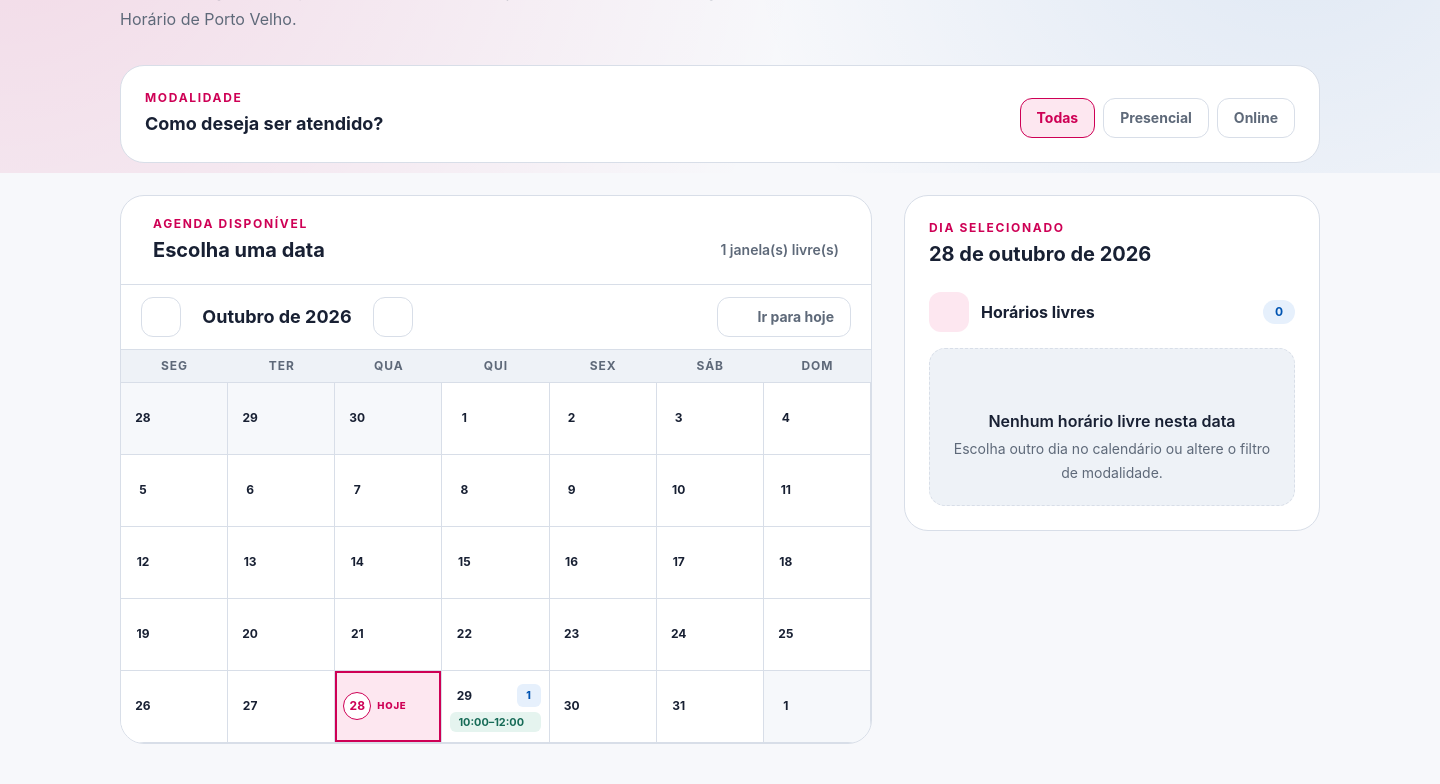
it: NewAppointmentView › preenche os dados dentro da janela e abre a revisão sem simular uma reserva
(page scrolled)
Click the button "29 1 10:00–12:00" at (496, 707), box [442,671,550,743]
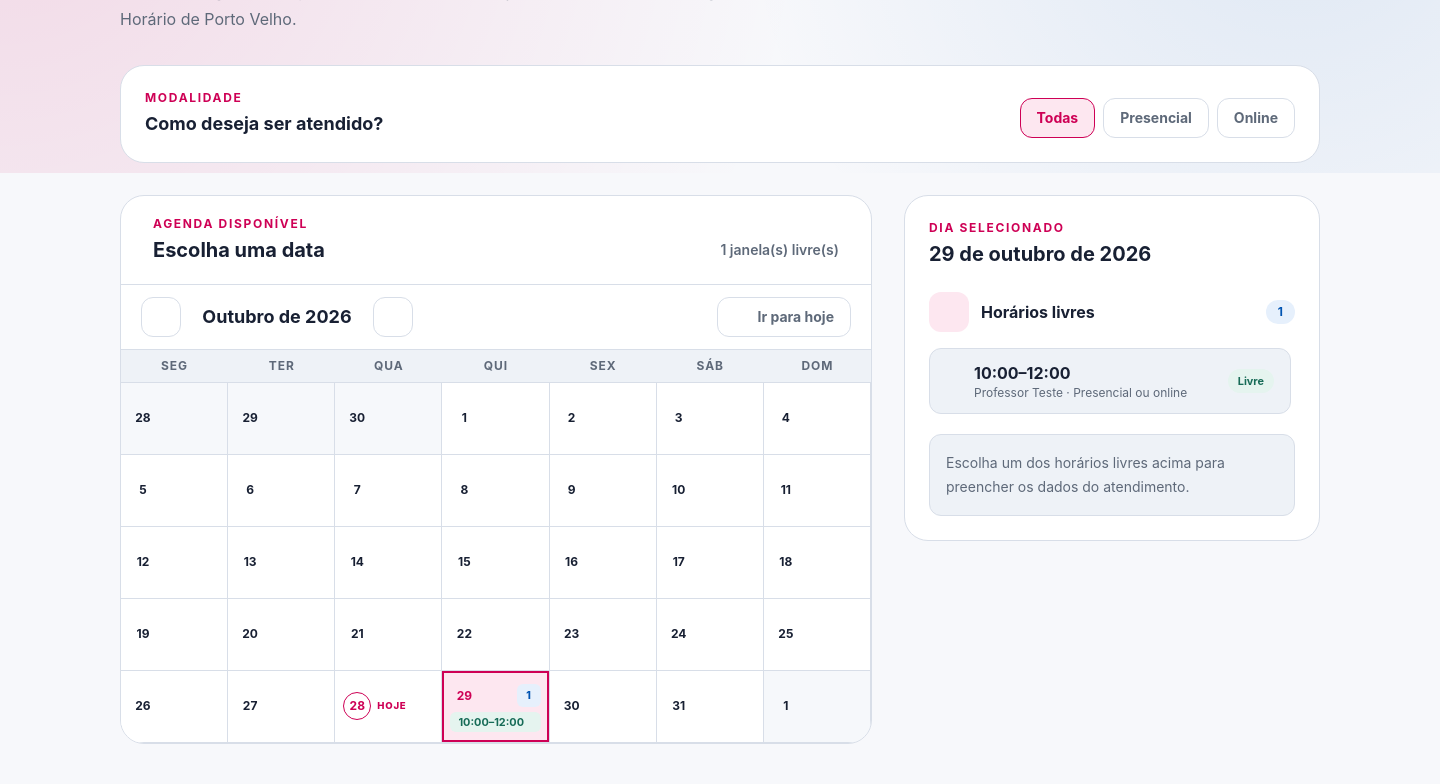
Click the button with test id "day-interval-" at (1022, 373), box [929,348,1291,414]
(page scrolled)
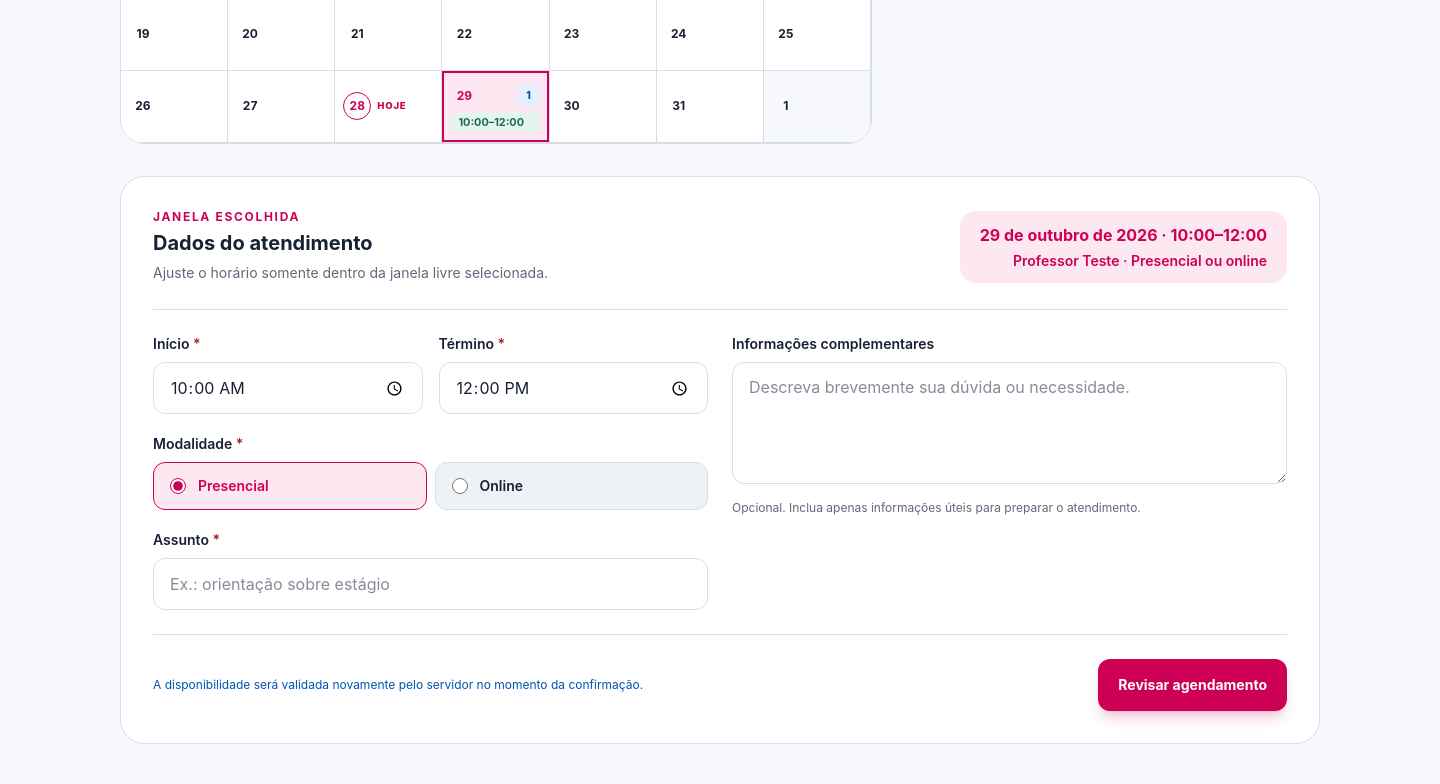
Result: the form with test id "appointment-form" shows "Dados do atendimento" at [153,231,373,255]
Type "Orientação sobre estágio" into the field named "subject" at (430, 584), box [153,558,708,610]
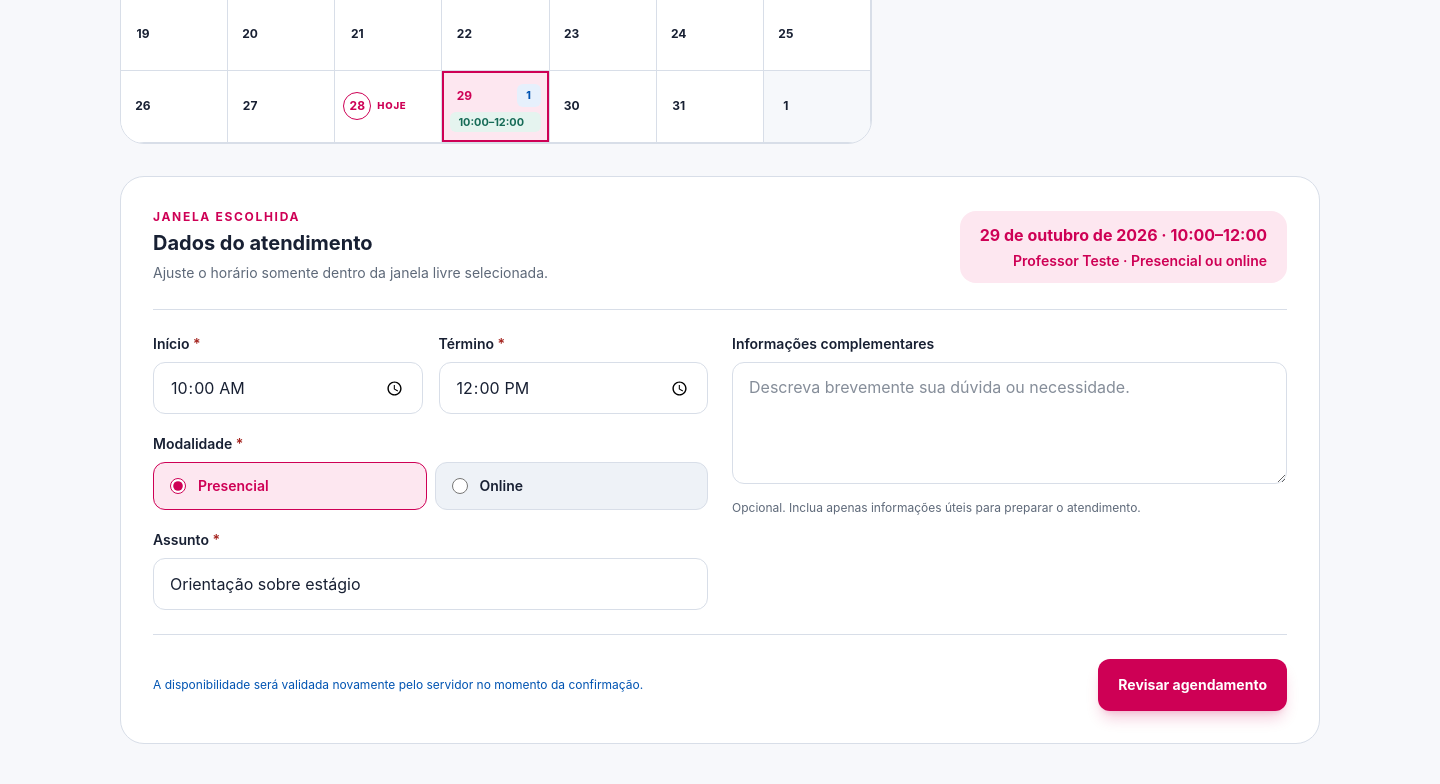
Type "Dúvidas sobre a documentação." into the text box named "details" at (1010, 423), box [732,362,1287,484]
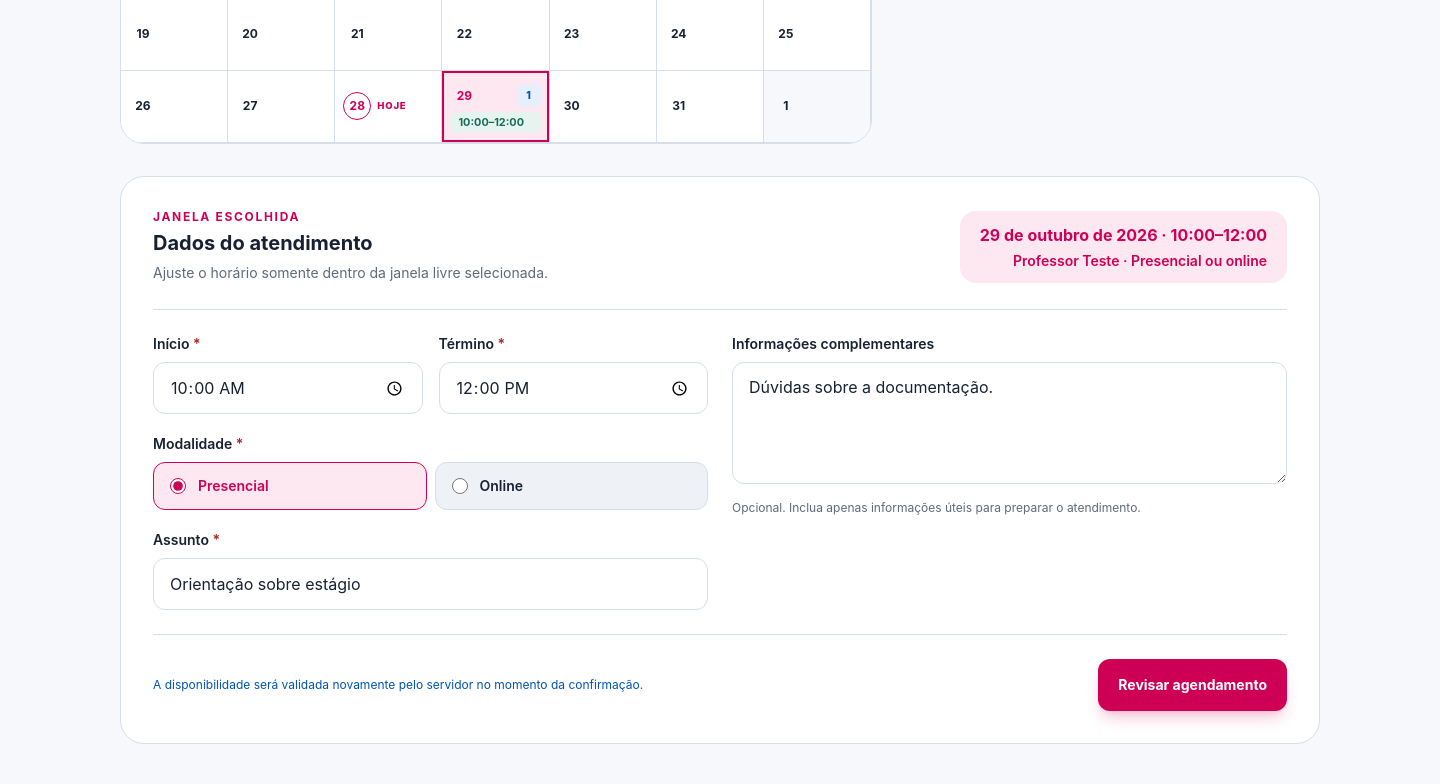
Submit the form with test id "appointment-form", box [153,209,1287,711]
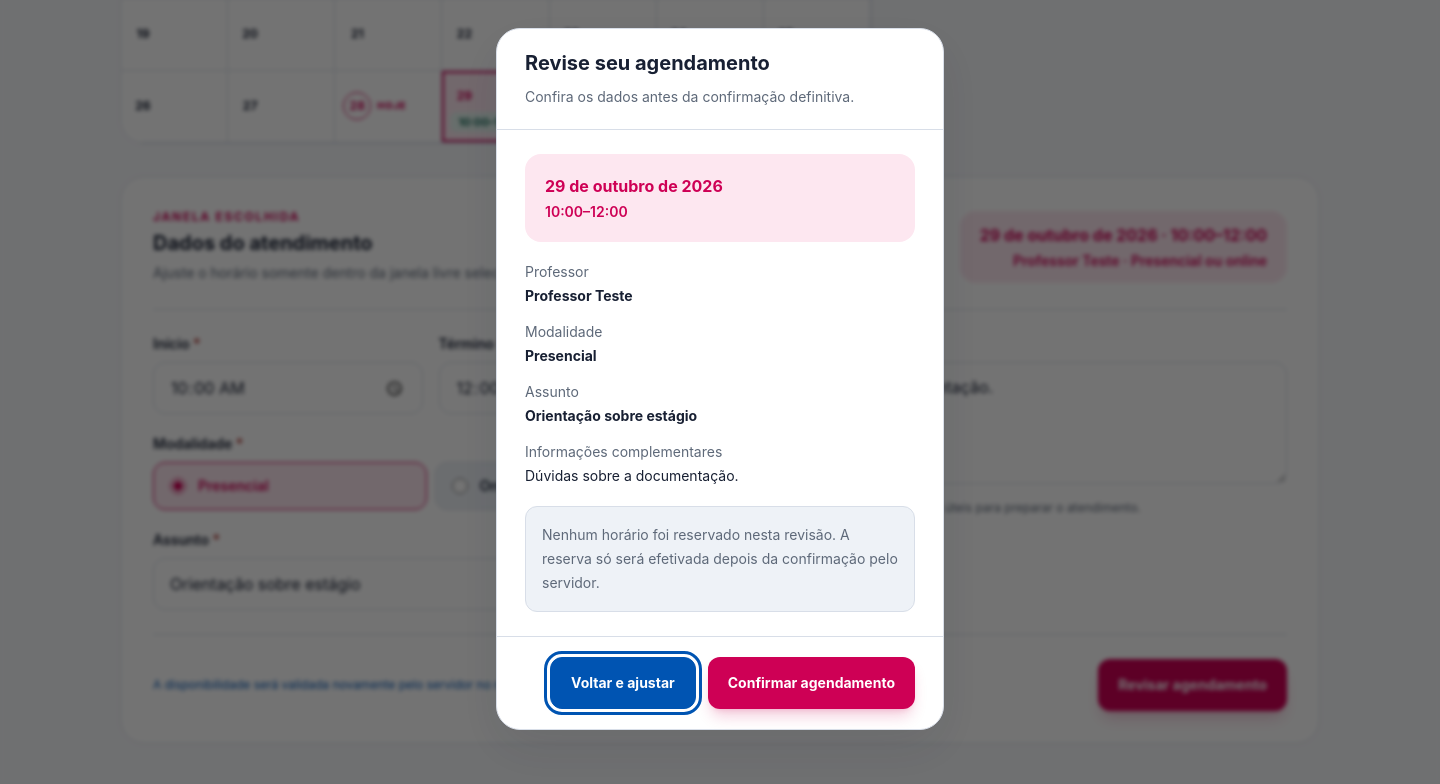
Result: the element with test id "appointment-review" shows "Professor Teste" at [525,287,633,304]
Result: the element with test id "appointment-review" shows "Presencial" at [525,347,597,364]
Result: the element with test id "appointment-review" shows "Orientação sobre estágio" at [525,407,697,424]
